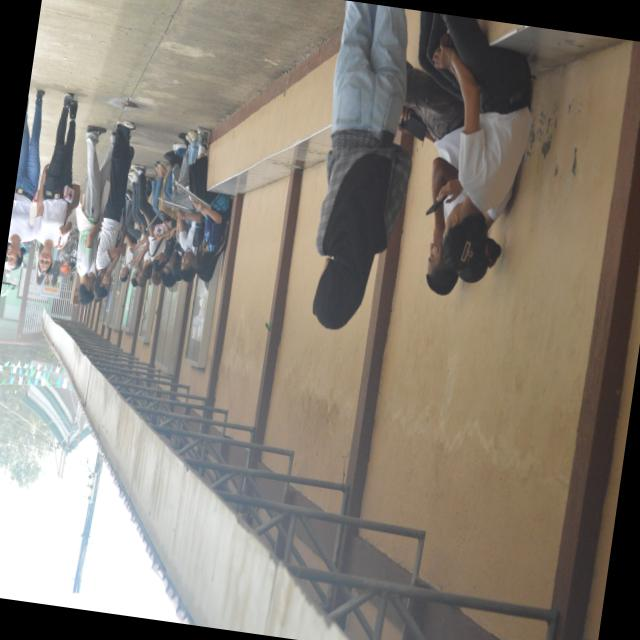person: (312, 1, 411, 328), (426, 13, 531, 270), (33, 93, 77, 273), (75, 125, 115, 304), (94, 120, 133, 297), (6, 90, 43, 268), (188, 126, 229, 275)
